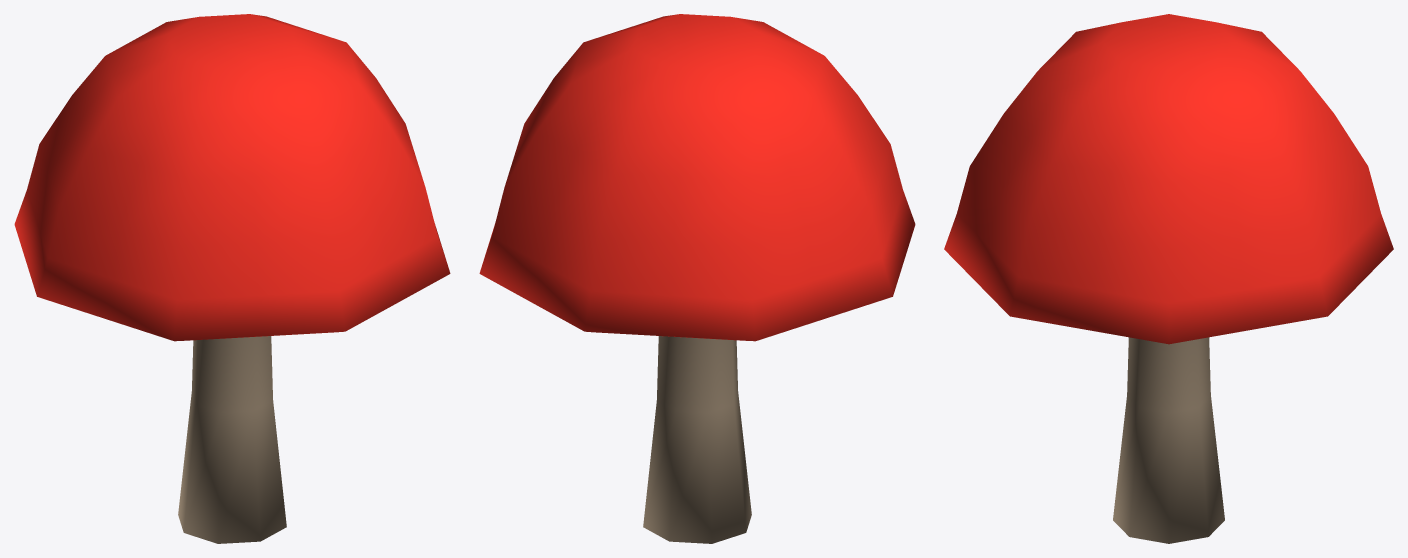
Rendered from hongo  (1).fbx.
The picture shows the model from 3 angles, left to right: view 1: azimuth 30°, elevation 25°; view 2: azimuth 150°, elevation 25°; view 3: azimuth 270°, elevation 25°; orthographic projection.
Visible parts, largest first — view 1: Circle.003; view 2: Circle.003; view 3: Circle.003.
Boxes of the visible parts, <box> form: Circle.003: <box>14,14,450,543</box>; Circle.003: <box>479,14,915,543</box>; Circle.003: <box>944,14,1393,543</box>.
Size of the model in its own units: 88.85 by 104 by 88.85.
